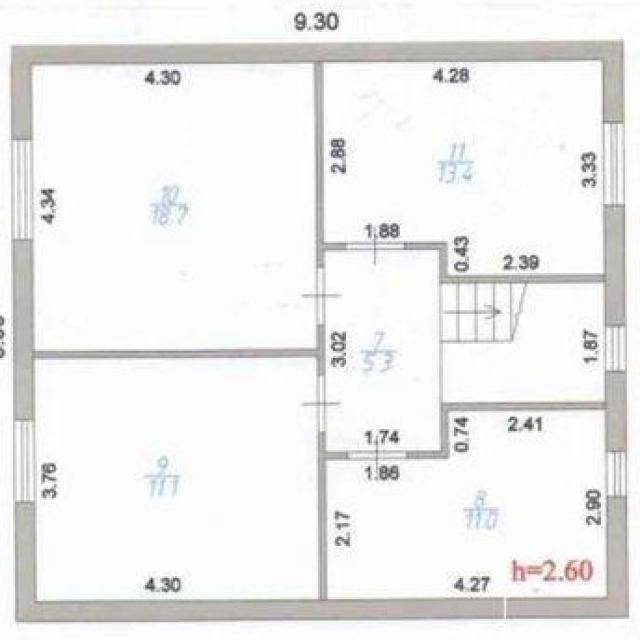Corridors: (327, 250, 439, 450)
Doors: (300, 268, 343, 325), (349, 434, 407, 475), (347, 226, 403, 268), (299, 377, 342, 431)
LBwalls: (14, 497, 630, 623), (11, 40, 625, 138), (11, 240, 36, 419), (604, 207, 625, 325), (605, 373, 628, 449)
Offices: (34, 67, 316, 347), (37, 359, 317, 597), (324, 62, 603, 274), (328, 412, 605, 598)
Stairs: (439, 285, 604, 401)
Walls: (36, 325, 326, 377), (405, 402, 604, 460), (404, 241, 603, 284), (313, 63, 346, 269), (318, 432, 348, 599)
Windows: (10, 139, 33, 240), (603, 121, 625, 207), (14, 420, 35, 503), (605, 325, 627, 372), (607, 450, 629, 497)
